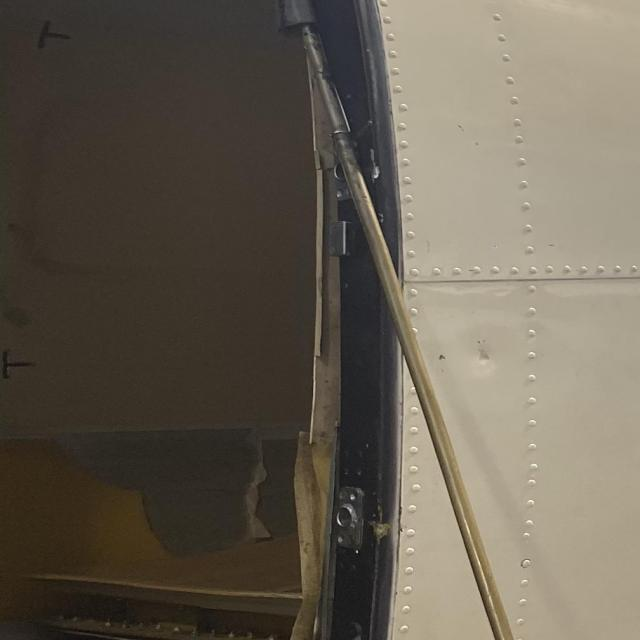Dent: (437, 324, 519, 383)
